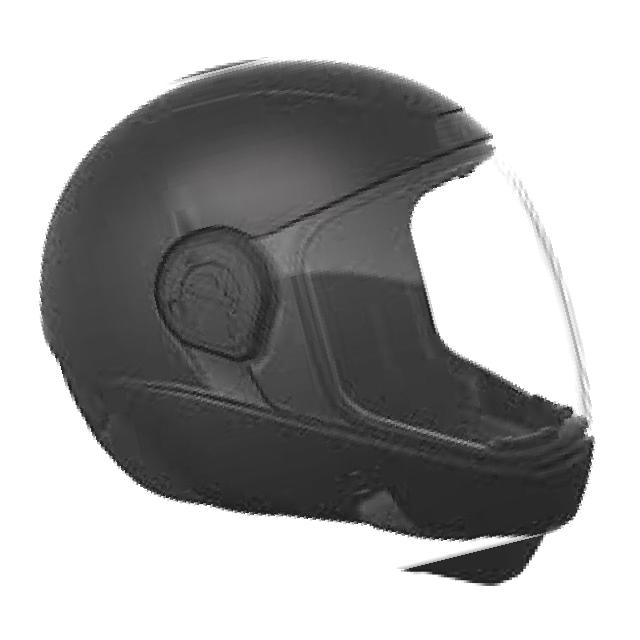helmet: (18, 27, 598, 613)
